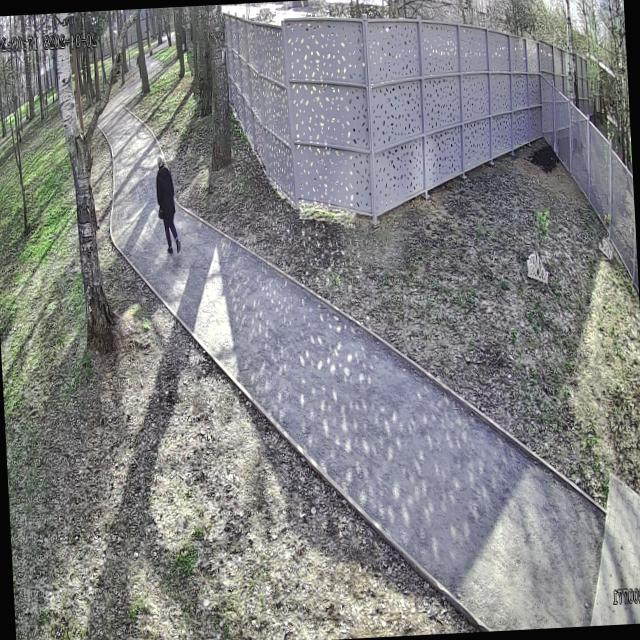person: (154, 154, 181, 254)
